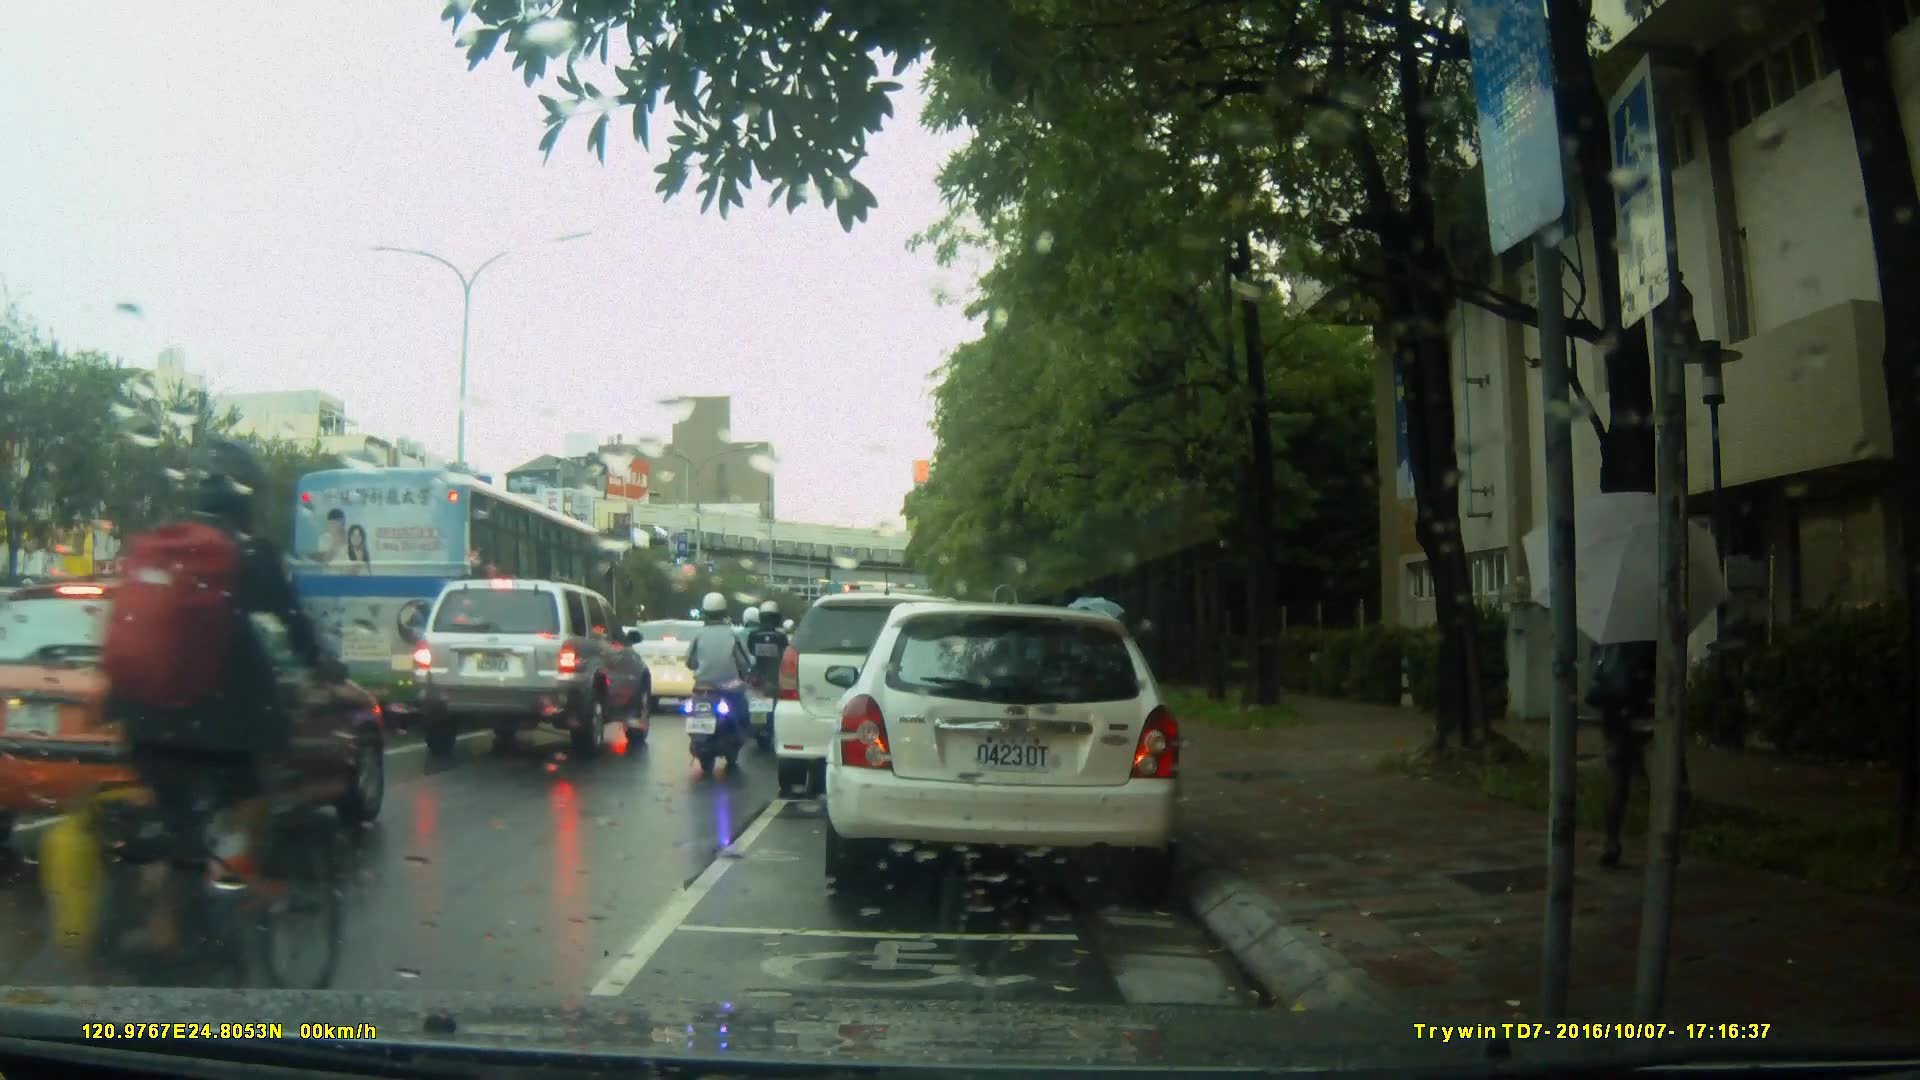pedestrian: (1599, 523, 1732, 889)
rider: (36, 443, 328, 1031), (679, 587, 752, 778), (741, 605, 799, 751), (729, 601, 778, 722)
vehicle: (1, 579, 387, 880), (835, 594, 1194, 898), (291, 467, 616, 739), (776, 590, 1026, 784), (405, 577, 656, 755)
